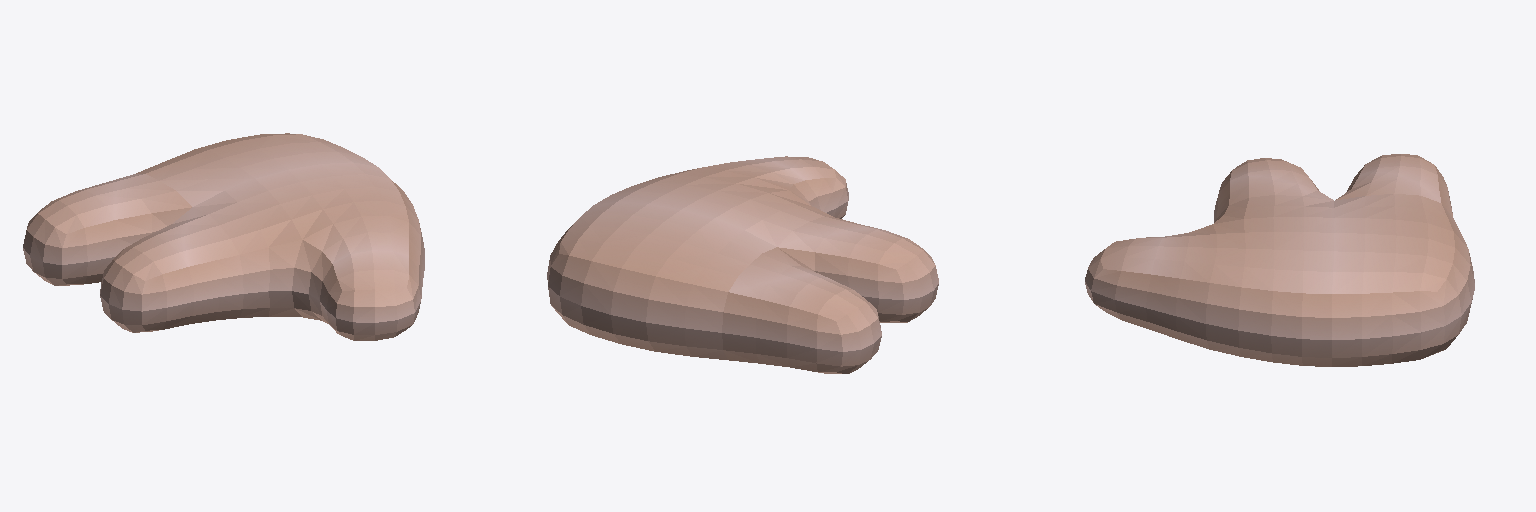
3 views of the same model, side by side, from view 1: azimuth 30°, elevation 25°; view 2: azimuth 150°, elevation 25°; view 3: azimuth 270°, elevation 25° (orthographic).
Parts seen in each view (by area): view 1: RightHand; view 2: RightHand; view 3: RightHand.
Part boxes in pixels (left/top/right/bottom): RightHand: left=23, top=133, right=424, bottom=340; RightHand: left=547, top=156, right=938, bottom=373; RightHand: left=1085, top=154, right=1474, bottom=366.
Size of the model in its own units: 10.95 by 3.28 by 11.15.
Materials: 1 (1 with a texture image).